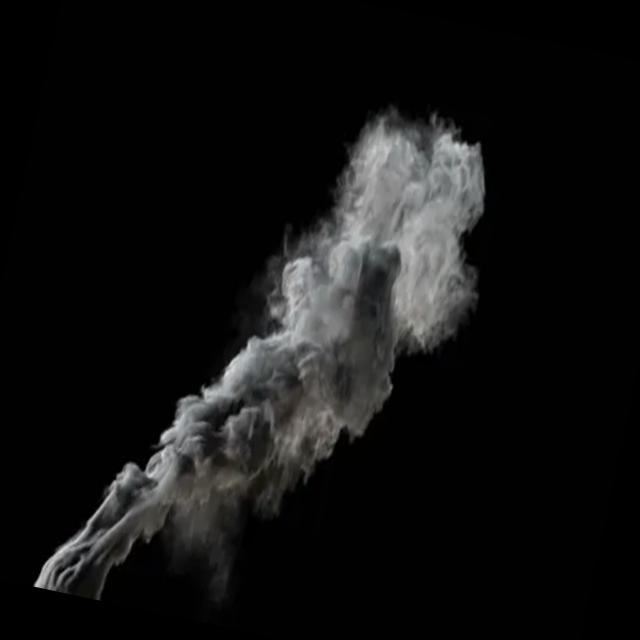Smoke: (33, 61, 512, 640)
